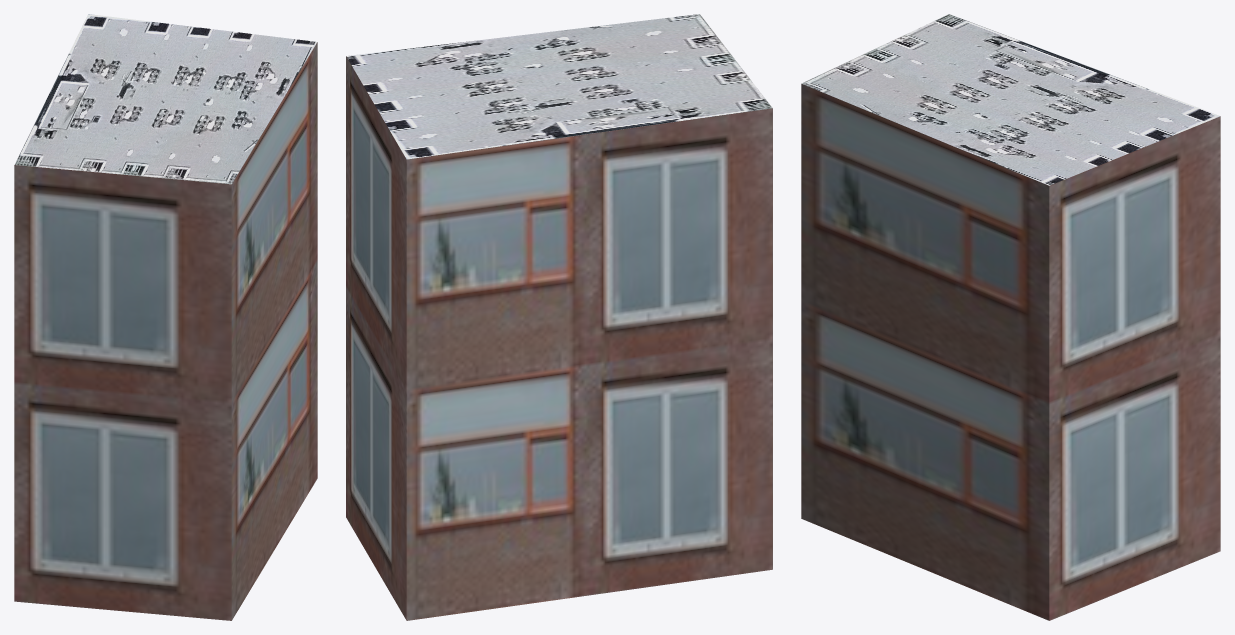
Rendered from ResTex__1338.fbx.
The picture shows the model from 3 angles, left to right: view 1: azimuth 30°, elevation 25°; view 2: azimuth 150°, elevation 25°; view 3: azimuth 270°, elevation 25°; orthographic projection. The views are drawn at different scales.
Parts seen in each view (by area): view 1: CityEngineMaterial_19_m, CityEngineMaterial_15_m; view 2: CityEngineMaterial_19_m, CityEngineMaterial_15_m; view 3: CityEngineMaterial_19_m, CityEngineMaterial_15_m.
Boxes of the visible parts, x1,y1,x2,y2 form: CityEngineMaterial_19_m: [14, 42, 317, 620]; CityEngineMaterial_15_m: [14, 14, 317, 184]; CityEngineMaterial_19_m: [346, 56, 772, 620]; CityEngineMaterial_15_m: [346, 14, 772, 159]; CityEngineMaterial_19_m: [801, 84, 1220, 620]; CityEngineMaterial_15_m: [801, 14, 1220, 185].
Size of the model in its own units: 5.08 by 6 by 5.24.
Materials: 2 (2 with a texture image).
